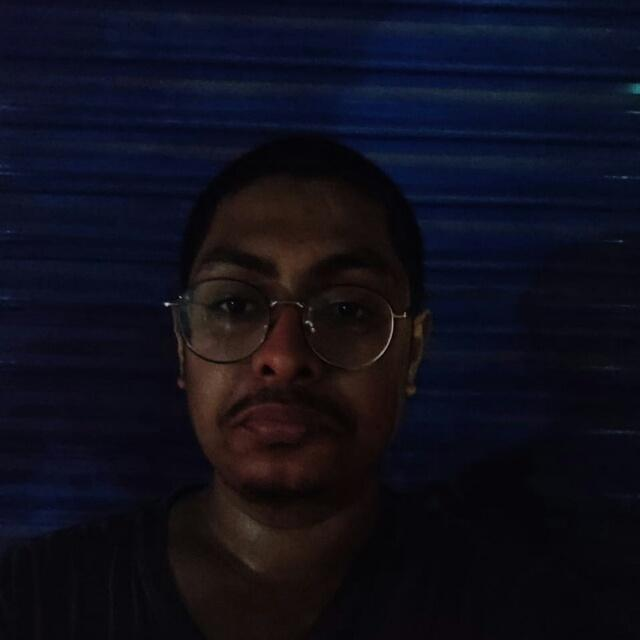Sad: (170, 155, 434, 522)
